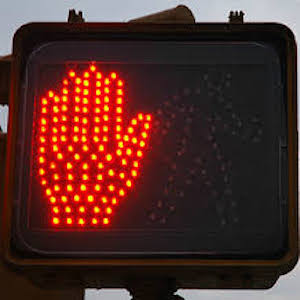red: (28, 60, 151, 230)
